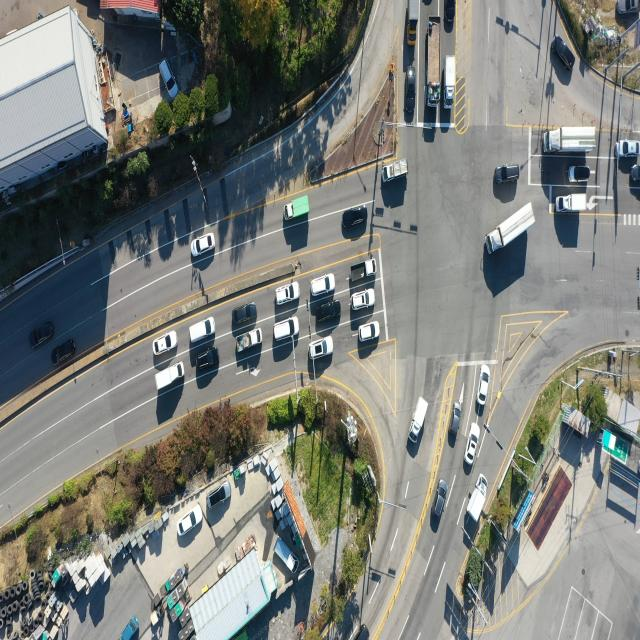car: (553, 33, 575, 74), (190, 316, 217, 344), (180, 505, 204, 535), (232, 301, 258, 328), (161, 59, 178, 99), (54, 339, 78, 367), (464, 424, 479, 466), (30, 324, 54, 350), (434, 479, 450, 517), (447, 402, 461, 445), (274, 320, 299, 344), (154, 332, 178, 357), (194, 349, 220, 372), (317, 299, 343, 322), (209, 483, 231, 509), (312, 338, 336, 361), (615, 138, 640, 160), (478, 365, 491, 406), (407, 65, 417, 118), (191, 234, 214, 257), (363, 318, 386, 341), (311, 274, 335, 296), (277, 282, 301, 304), (351, 288, 375, 310), (494, 165, 520, 185), (343, 207, 367, 228), (357, 321, 379, 342), (568, 165, 590, 184), (617, 0, 640, 16), (446, 0, 456, 31), (630, 160, 640, 185)
medium_truck: (485, 200, 536, 256), (542, 127, 596, 154), (426, 20, 441, 109)
small_truck: (470, 474, 490, 524), (409, 396, 429, 444), (274, 540, 300, 576), (157, 362, 186, 394), (235, 329, 262, 355), (382, 159, 409, 184), (556, 194, 588, 215), (284, 196, 309, 222), (444, 55, 456, 108), (349, 260, 376, 282), (409, 0, 421, 47), (121, 615, 141, 640)
